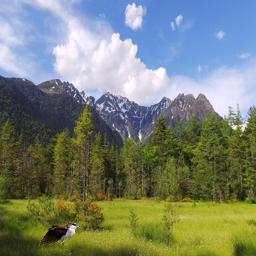Cuckoo: (39, 206, 81, 247)
